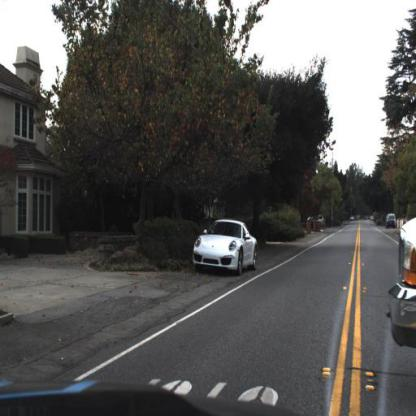car: (191, 219, 262, 280), (385, 210, 399, 233)
